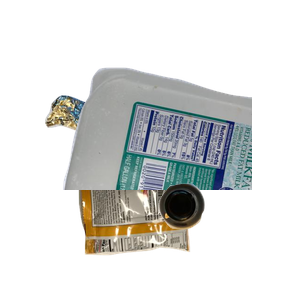glass: (156, 181, 300, 300)
metal: (42, 72, 239, 229)
plastic: (60, 65, 300, 245)
trash: (76, 159, 259, 300)
